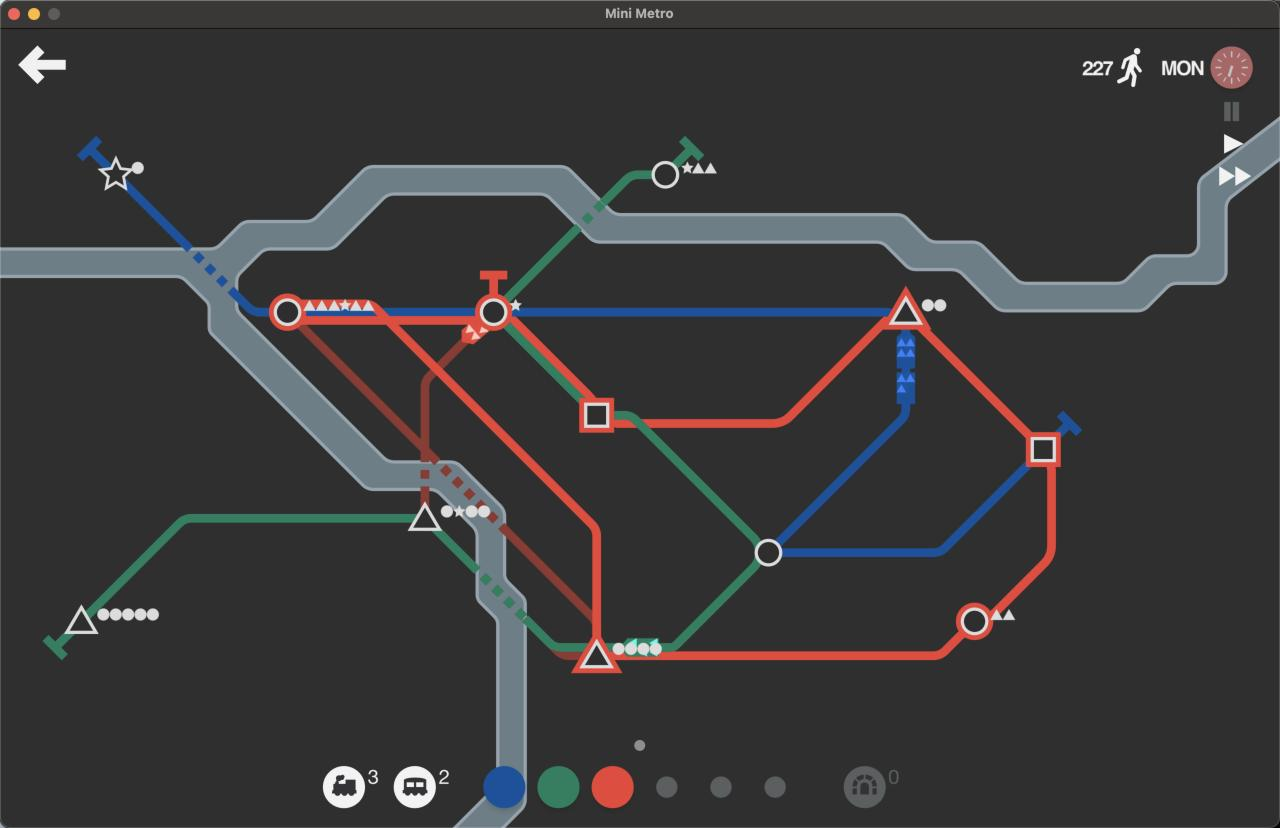CIRCLE: (269, 293, 306, 330), (650, 160, 680, 190), (754, 538, 783, 568), (479, 297, 509, 326), (961, 607, 989, 635)
SQUARE: (1028, 434, 1059, 466), (584, 402, 609, 428)
STAR: (96, 156, 141, 192)
TRIANGLE: (572, 635, 621, 674), (887, 288, 925, 328), (63, 603, 99, 637), (407, 500, 442, 532)
